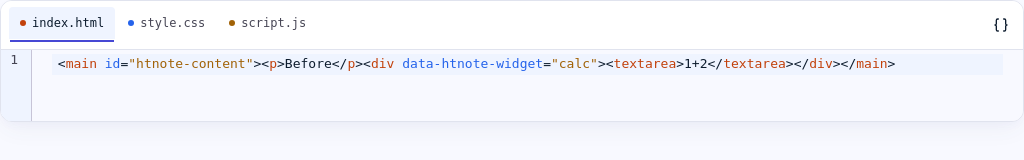
CodeEditor tabs › reveals HTML from the CSS tab, focuses the element start and preserves edits
This screenshot has width=1024, height=160.
Click the tab "style.css" at {"x": 167, "y": 23}, box left=117, top=7, right=216, bottom=39
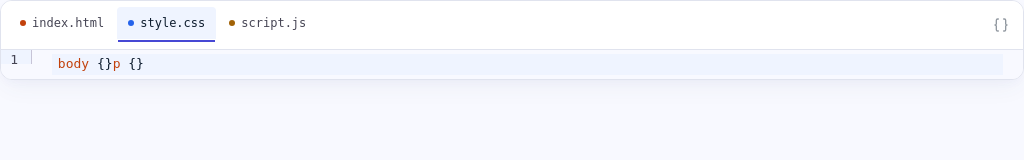
Now the text box labelled "body {}p {}" is shown, box left=52, top=54, right=1003, bottom=75
